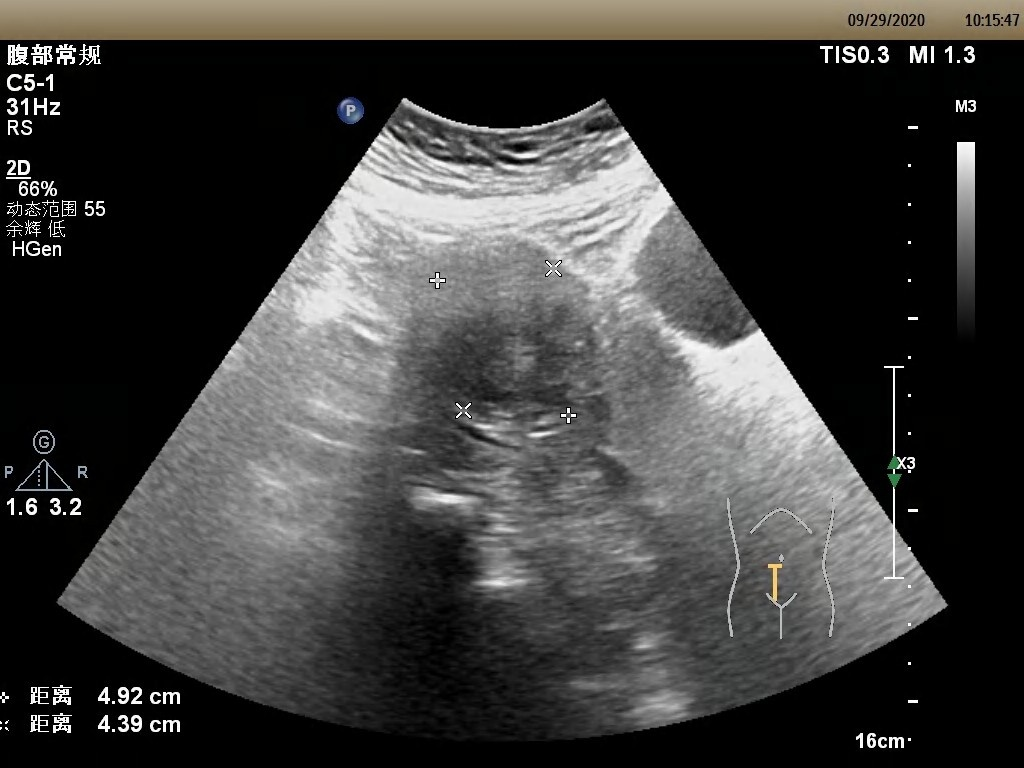肌瘤: (433, 268, 577, 416)
